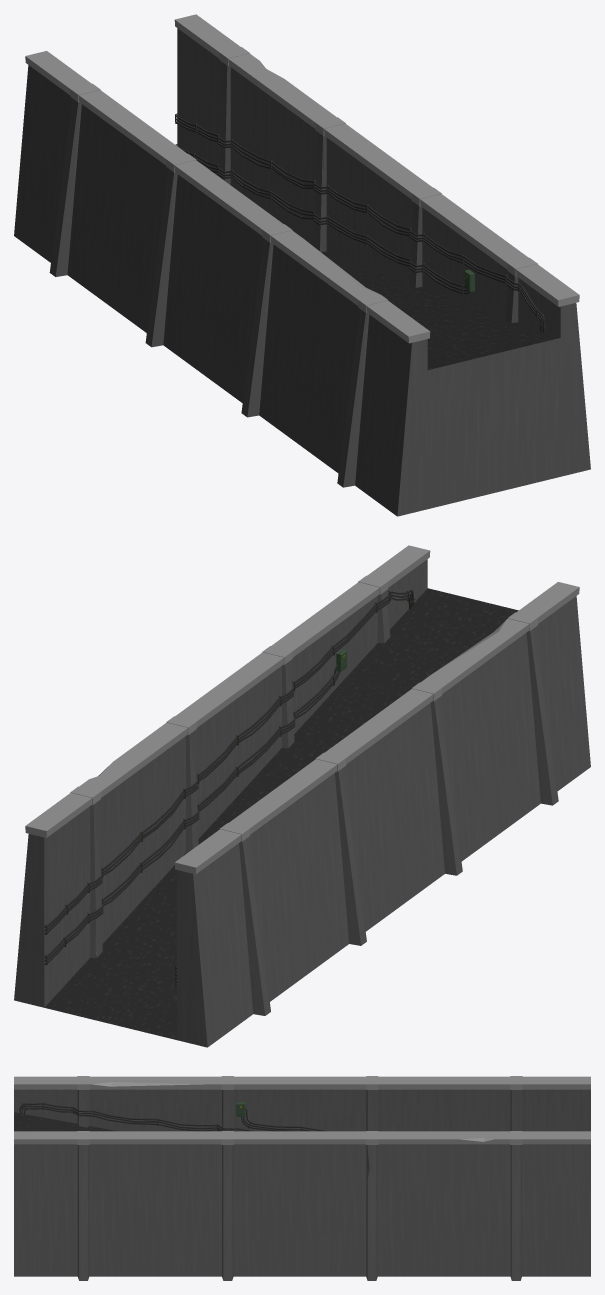
The model's file is SW_ENV_OpenTunnel_TrackRise_Single_FF.fbx.
3 renders of one model, top to bottom at view 1: azimuth 30°, elevation 25°; view 2: azimuth 150°, elevation 25°; view 3: azimuth 270°, elevation 25°, orthographic. The views are drawn at different scales.
Parts seen in each view (by area): view 1: SW_ENV_OpenTunnel_TrackRise_Single_FF; view 2: SW_ENV_OpenTunnel_TrackRise_Single_FF; view 3: SW_ENV_OpenTunnel_TrackRise_Single_FF.
Part boxes in pixels (<box>): SW_ENV_OpenTunnel_TrackRise_Single_FF: <box>14,14,590,516</box>; SW_ENV_OpenTunnel_TrackRise_Single_FF: <box>14,545,590,1047</box>; SW_ENV_OpenTunnel_TrackRise_Single_FF: <box>14,1076,590,1280</box>.
Size of the model in its own units: 649 by 511 by 2000.
